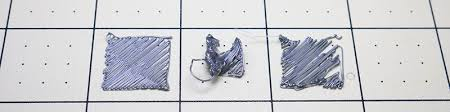fail: (104, 31, 174, 93), (277, 34, 349, 91), (187, 31, 251, 85)
